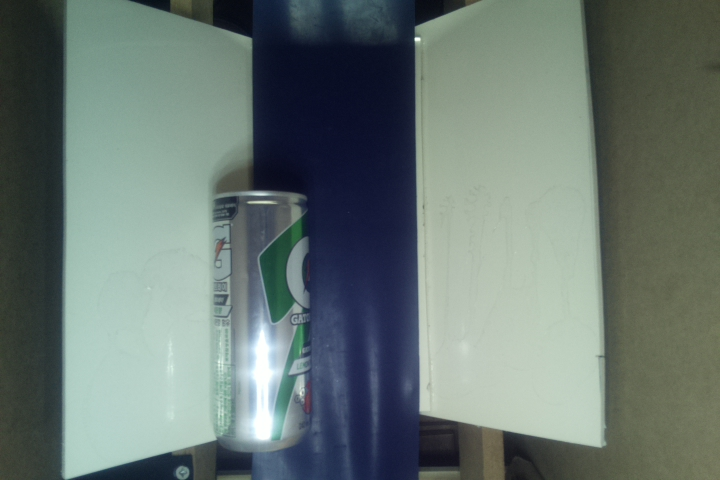can: (210, 190, 311, 451)
